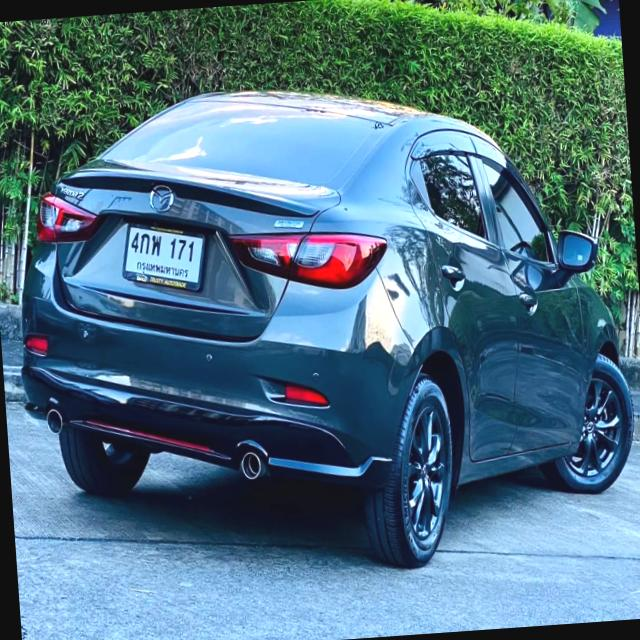license_plate: (116, 211, 214, 302)
